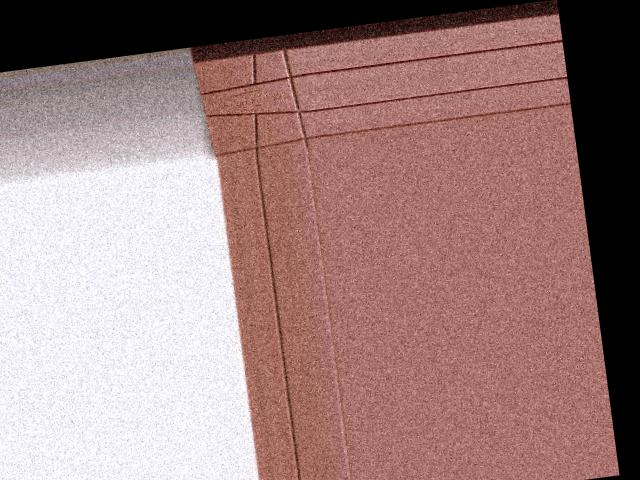chocolate: (190, 42, 314, 161)
